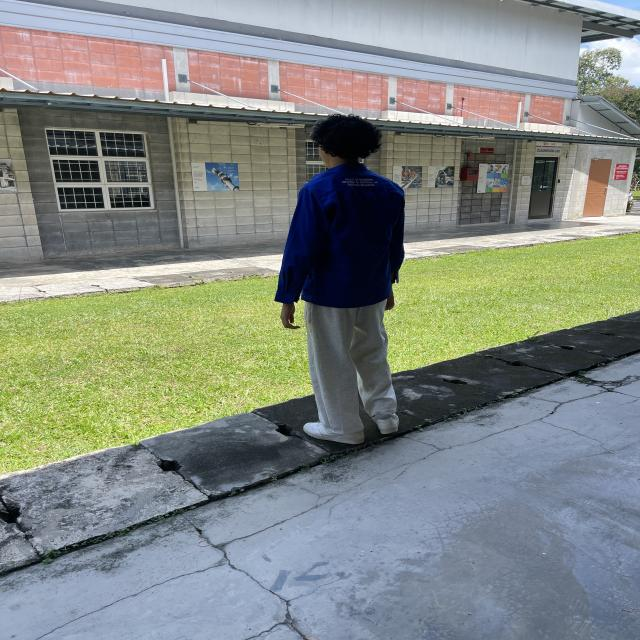person_with_labcoat: (274, 114, 405, 444)
